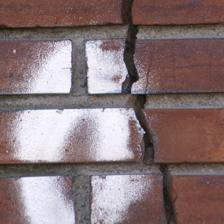Crack: (119, 3, 182, 223)
